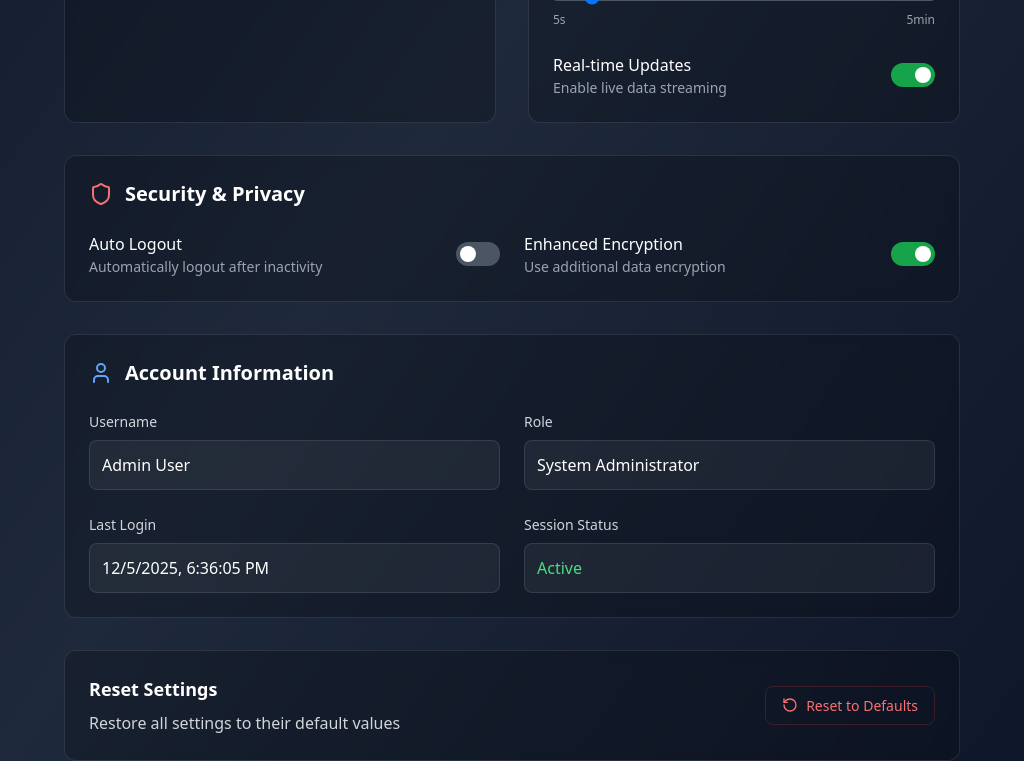
Test: SettingsPage › should show reset confirmation modal when reset button is clicked
The width and height of the screenshot is (1024, 761).
(page scrolled)
Click the button "Reset to Defaults" at (850, 705), box [765,686,935,725]
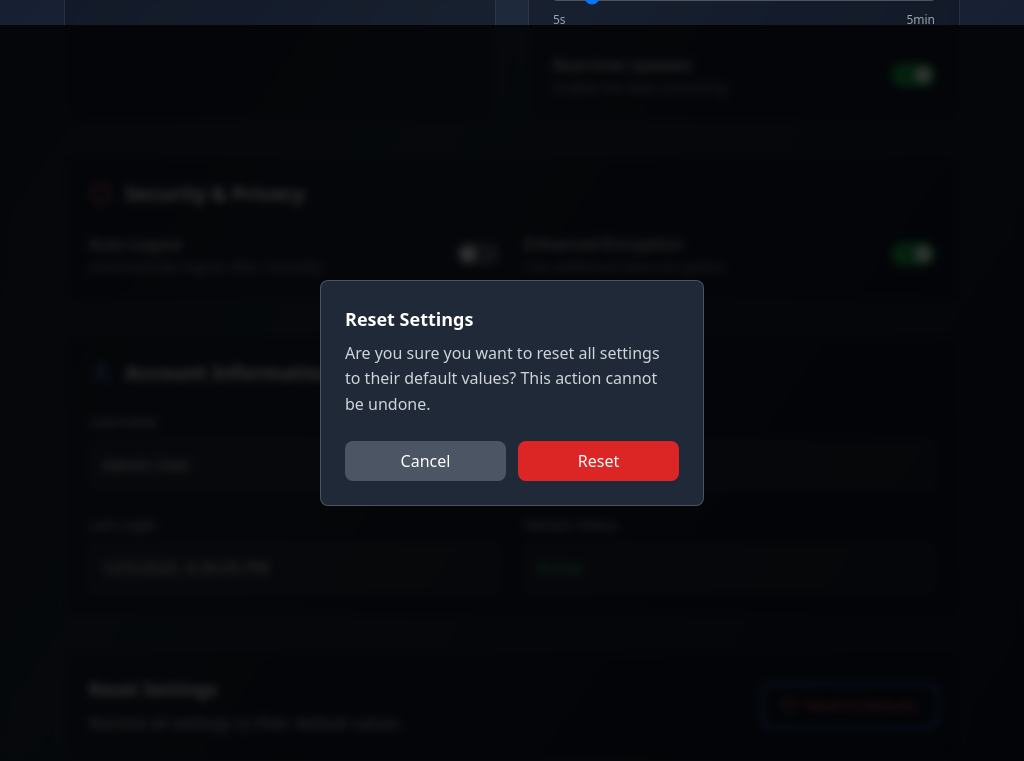
expect the text "Are you sure you want to reset" is shown: met, box [345,342,660,415]
expect the button "Cancel" is shown: met, box [345,441,506,481]
expect the button "Reset" is shown: met, box [518,441,679,481]
